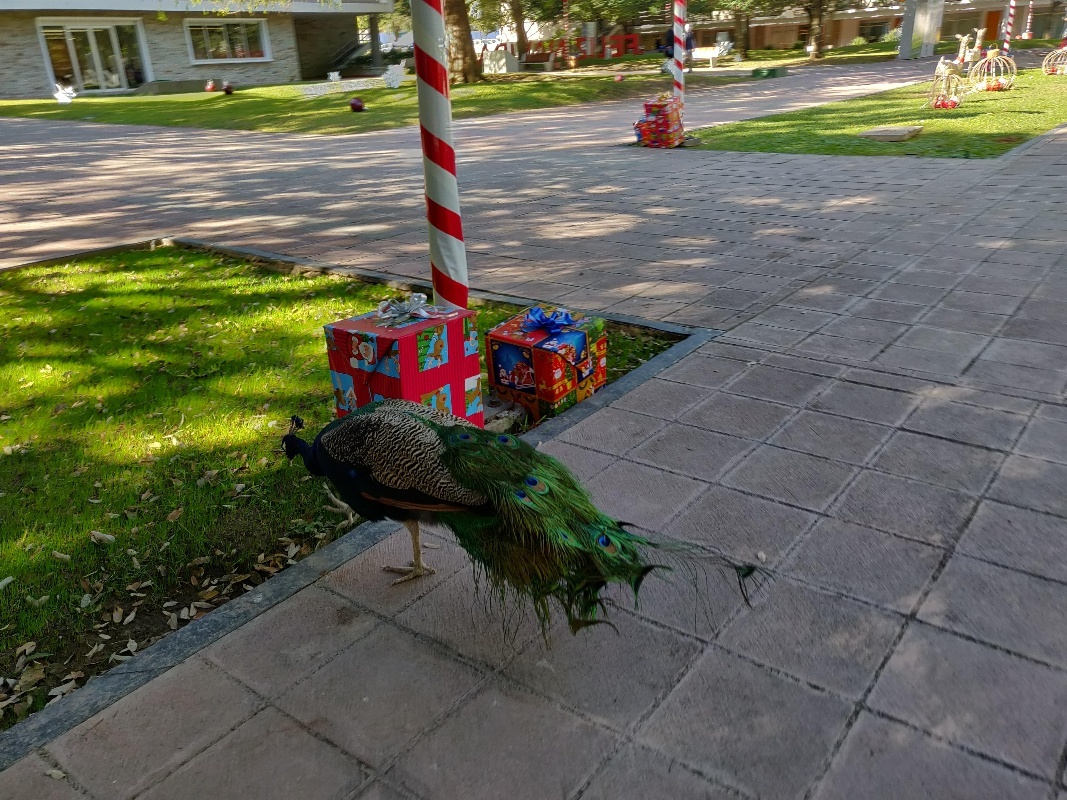pavoreal: (283, 399, 445, 519)
